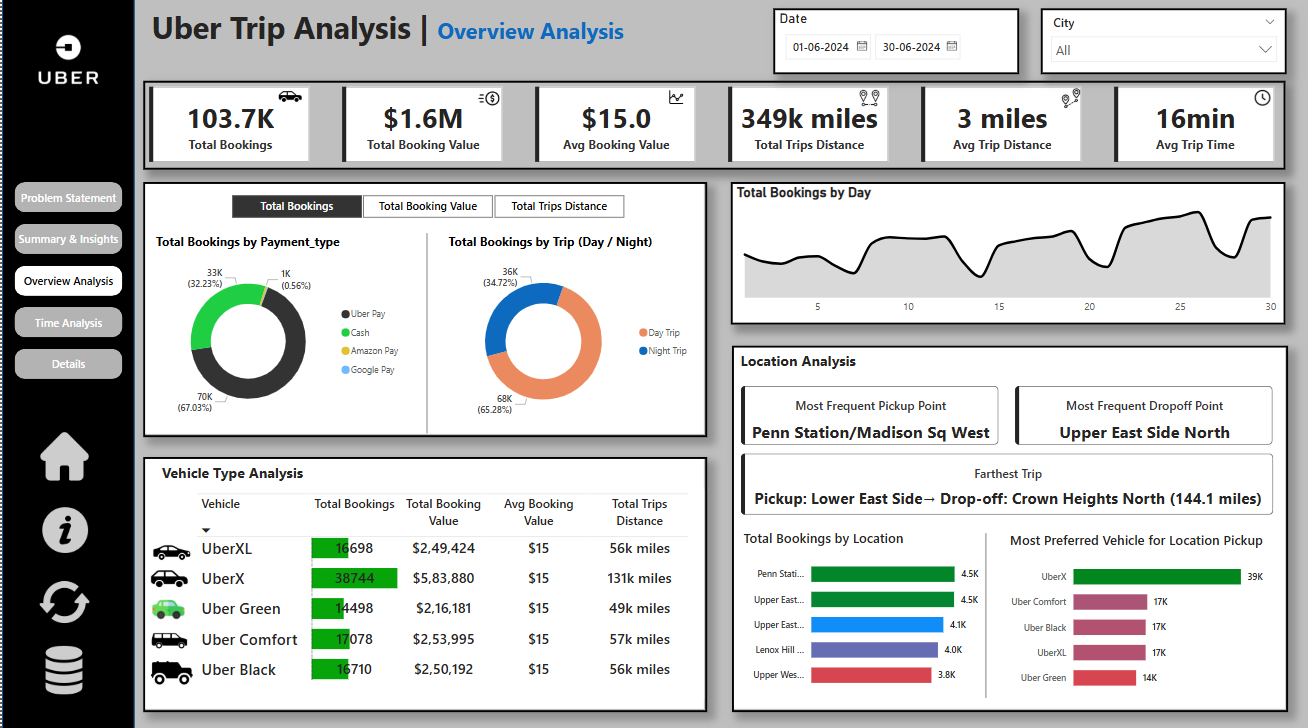

This screenshot's page, from the dashboard's own definition file:
{"tool":"powerbi","page":{"name":"Overview Analysis","canvas":[1600,900],"ordinal":2},"visuals":[{"type":"shape","box":[0,0,162,900.3],"z":0},{"type":"textbox","box":[143.7,6.1,655.7,70.3],"z":1000},{"type":"cardVisual","fields":{"Data":["Trip Details.Total Booking","Trip Details.Total Booking Amount","Trip Details.Avg Booking Amount","Trip Details.Total Trips Distance","Trip Details.Avg Trip Distance","Trip Details.Avg Trip Time"]},"box":[172.7,102.4,1397.1,108.5],"z":2000},{"type":"image","box":[577.8,102.4,35.2,42.8],"z":3000},{"type":"image","box":[1527,102.4,29,41.3],"z":4000},{"type":"image","box":[810.1,100.9,29,42.8],"z":5000},{"type":"image","box":[1044,94.8,33.6,58.1],"z":6000},{"type":"image","box":[1282.4,107,50.4,33.6],"z":7000},{"type":"shape","box":[172.7,226.2,689.4,311.8],"z":8000},{"type":"slicer","fields":{"Values":["Dynamic Measure.Dynamic Measure"]},"box":[255.3,235.3,529.4,41.2],"z":9000},{"type":"image","box":[333.2,102.4,38.2,38.2],"z":10000},{"type":"donutChart","fields":{"Y":["Trip Details.Total Bookings"],"Category":["Trip Details.Payment_type"]},"box":[183.4,288.9,314.9,244.6],"z":11000},{"type":"donutChart","fields":{"Y":["Trip Details.Total Bookings"],"Category":["Trip Details.Trip Type (Day / Night)"]},"box":[541.1,288.9,310.3,244.6],"z":12000},{"type":"shape","box":[172.7,562.5,689.4,311.8],"z":13000},{"type":"pivotTable","fields":{"Rows":["Trip Details.Vehicle"],"Values":["Trip Details.Total Bookings","Trip Details.Total Booking Value","Trip Details.Avg Booking Value","Trip Details.Total Trips Distance"]},"box":[233.9,602.2,625.2,255.3],"z":14000},{"type":"image","box":[175.8,683.3,58.1,56.6],"z":15000},{"type":"image","box":[177.3,646.6,61.1,65.7],"z":16000},{"type":"image","box":[172.7,724.5,61.1,48.9],"z":17000},{"type":"image","box":[175.8,752,58.1,70.3],"z":18000},{"type":"image","box":[177.3,788.7,61.1,74.9],"z":19000},{"type":"card","fields":{"Values":["Trip Details.Title for Grid"]},"box":[177.3,562.5,209.4,41.3],"z":20000},{"type":"areaChart","fields":{"Category":["Calender Table.Date.Variation.Date Hierarchy.Day"],"Y":["Trip Details.Total Bookings"]},"box":[891.1,226.2,678.7,174.3],"z":21000},{"type":"shape","box":[892.7,426.5,680.2,447.9],"z":22000},{"type":"cardVisual","fields":{"Data":["Trip Details.Most Frequent Pickup Point","Trip Details.Most Frequent Dropoff Point"]},"box":[898.8,470.8,661.9,82.5],"z":23000},{"type":"cardVisual","fields":{"Data":["Trip Details.Farthest Trip"]},"box":[898.8,553.3,661.9,85.6],"z":24000},{"type":"barChart","fields":{"Category":["Location Table.Location"],"Y":["Trip Details.Total Bookings"]},"box":[901.8,649.6,301.1,207.9],"z":25000},{"type":"barChart","title":"Most Preferred Vehicle for Location Pickup","fields":{"Category":["Trip Details.Vehicle"],"Y":["CountNonNull(Trip Details.PULocationID)"]},"box":[1226.7,652,328.6,208.2],"z":26000},{"type":"shape","box":[498.3,288.9,42.8,244.6],"z":27000},{"type":"shape","box":[1181.9,655.5,43,201.3],"z":28000},{"type":"card","fields":{"Values":["Trip Details.Title for Location"]},"box":[886.6,426.5,174.3,41.3],"z":29000},{"type":"slicer","title":"Date","fields":{"Values":["Calender Table.Date"]},"box":[943.1,13.8,301.1,81],"z":30000},{"type":"slicer","fields":{"Values":["Location Table.City"]},"box":[1270.2,13.8,301.1,81],"z":31000},{"type":"pageNavigator","box":[15.3,226.2,133,241.5],"z":32000},{"type":"image","box":[41.3,527.3,70.3,68.8],"z":33000},{"type":"image","box":[41.3,619.1,71.8,65.7],"z":34000},{"type":"image","box":[41.3,703.1,70.3,73.4],"z":35000},{"type":"image","box":[38.2,788.7,74.9,68.8],"z":36000},{"type":"image","box":[0,0,162,152.9],"z":37000}]}

Visuals, with their boxes on the page's 1600x900 design canvas (x1, y1, x2, y2). These are canvas units, not pixel positions in the 1308x728 screenshot, which may show the page scaled, cropped or inside an application window:
shape: <box>0,0,162,900</box>
textbox: <box>144,6,799,76</box>
cardVisual - Trip Details.Total Booking x Trip Details.Total Booking Amount: <box>173,102,1570,211</box>
image: <box>578,102,613,145</box>
image: <box>1527,102,1556,144</box>
image: <box>810,101,839,144</box>
image: <box>1044,95,1078,153</box>
image: <box>1282,107,1333,141</box>
shape: <box>173,226,862,538</box>
slicer - Dynamic Measure.Dynamic Measure: <box>255,235,785,276</box>
image: <box>333,102,371,141</box>
donutChart - Trip Details.Total Bookings x Trip Details.Payment_type: <box>183,289,498,534</box>
donutChart - Trip Details.Total Bookings x Trip Details.Trip Type (Day / Night): <box>541,289,851,534</box>
shape: <box>173,562,862,874</box>
pivotTable - Trip Details.Vehicle x Trip Details.Total Bookings: <box>234,602,859,858</box>
image: <box>176,683,234,740</box>
image: <box>177,647,238,712</box>
image: <box>173,724,234,773</box>
image: <box>176,752,234,822</box>
image: <box>177,789,238,864</box>
card - Trip Details.Title for Grid: <box>177,562,387,604</box>
areaChart - Calender Table.Date.Variation.Date Hierarchy.Day x Trip Details.Total Bookings: <box>891,226,1570,400</box>
shape: <box>893,426,1573,874</box>
cardVisual - Trip Details.Most Frequent Pickup Point x Trip Details.Most Frequent Dropoff Point: <box>899,471,1561,553</box>
cardVisual - Trip Details.Farthest Trip: <box>899,553,1561,639</box>
barChart - Location Table.Location x Trip Details.Total Bookings: <box>902,650,1203,858</box>
"Most Preferred Vehicle for Location Pickup" barChart: <box>1227,652,1555,860</box>
shape: <box>498,289,541,534</box>
shape: <box>1182,656,1225,857</box>
card - Trip Details.Title for Location: <box>887,426,1061,468</box>
"Date" slicer: <box>943,14,1244,95</box>
slicer - Location Table.City: <box>1270,14,1571,95</box>
pageNavigator: <box>15,226,148,468</box>
image: <box>41,527,112,596</box>
image: <box>41,619,113,685</box>
image: <box>41,703,112,776</box>
image: <box>38,789,113,858</box>
image: <box>0,0,162,153</box>
